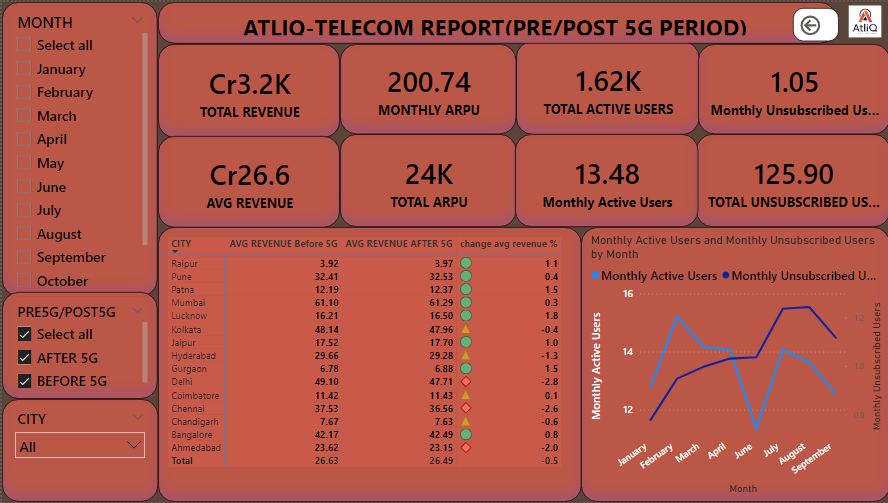

The page's visual inventory and layout, read from the dashboard file:
{"tool":"powerbi","page":{"name":"Overview","canvas":[1280,720],"ordinal":0},"visuals":[{"type":"slicer","fields":{"Values":["fact_atliqo_metrics.date.Variation.Date Hierarchy.Month"]},"box":[0,0,224.1,424.4],"z":0},{"type":"slicer","title":"PRE 5G/POST 5G","fields":{"Values":["fact_atliqo_metrics.Before 5G/After 5G"]},"box":[0,418,224.1,154.2],"z":1000},{"type":"image","box":[1204.8,0,74.7,55.6],"z":2000},{"type":"card","fields":{"Values":["Sum(fact_atliqo_metrics.atliqo_revenue_crores)"]},"box":[224.1,60.4,262.3,135.1],"z":3000},{"type":"card","fields":{"Values":["Avg(fact_atliqo_metrics.atliqo_revenue_crores)"]},"box":[224.1,192.3,262.3,131.9],"z":4000},{"type":"card","fields":{"Values":["Sum(fact_atliqo_metrics.arpu)"]},"box":[486.4,190.7,254.3,133.5],"z":5000},{"type":"card","fields":{"Values":["Sum(fact_atliqo_metrics.active_users_lakhs)"]},"box":[740.7,55.6,263.8,135.1],"z":6000},{"type":"card","fields":{"Values":["Sum(fact_atliqo_metrics.unsubscribed_users_lakhs)"]},"box":[999.7,190.7,279.7,133.5],"z":7000},{"type":"card","fields":{"Values":["dim_cities.Monthly Active Users"]},"box":[739.1,190.7,263.8,133.5],"z":8000},{"type":"pivotTable","title":"CHANGE IN REVENUE BY CITY","fields":{"Rows":["dim_cities.CITY"],"Values":["dim_cities.AVG REVENUE Before 5G","dim_cities.AVG REVENUE AFTER 5G","dim_cities.change avg revenue %"]},"box":[224.1,324.2,610.3,395.8],"z":9000},{"type":"lineChart","fields":{"Category":["fact_atliqo_metrics.date.Variation.Date Hierarchy.Month"],"Y":["dim_cities.Monthly Active Users"],"Y2":["dim_cities.Monthly Unsubscribed Users"]},"box":[834.4,324.2,445,395.8],"z":10000},{"type":"slicer","fields":{"Values":["dim_cities.CITY"]},"box":[0,572.2,224.1,147.8],"z":11000},{"type":"textbox","box":[224.1,0,977.5,60.4],"z":12000},{"type":"card","fields":{"Values":["dim_cities.Monthly Unsubscribed Users"]},"box":[1002.9,60.4,276.6,130.3],"z":13000},{"type":"card","fields":{"Values":["dim_cities.MONTHLY ARPU"]},"box":[486.4,60.4,254.3,130.3],"z":14000}]}

Visuals, with their boxes in screenshot pixels (x1, y1, x2, y2), scaled from the page's 1280x720 canvas onto the 888x503 screenshot:
slicer - fact_atliqo_metrics.date.Variation.Date Hierarchy.Month: left=0, top=0, right=155, bottom=296
"PRE 5G/POST 5G" slicer: left=0, top=292, right=155, bottom=400
image: left=836, top=0, right=887, bottom=39
card - Sum(fact_atliqo_metrics.atliqo_revenue_crores): left=155, top=42, right=337, bottom=137
card - Avg(fact_atliqo_metrics.atliqo_revenue_crores): left=155, top=134, right=337, bottom=226
card - Sum(fact_atliqo_metrics.arpu): left=337, top=133, right=514, bottom=226
card - Sum(fact_atliqo_metrics.active_users_lakhs): left=514, top=39, right=697, bottom=133
card - Sum(fact_atliqo_metrics.unsubscribed_users_lakhs): left=694, top=133, right=887, bottom=226
card - dim_cities.Monthly Active Users: left=513, top=133, right=696, bottom=226
"CHANGE IN REVENUE BY CITY" pivotTable: left=155, top=226, right=579, bottom=502
lineChart - fact_atliqo_metrics.date.Variation.Date Hierarchy.Month x dim_cities.Monthly Active Users: left=579, top=226, right=887, bottom=502
slicer - dim_cities.CITY: left=0, top=400, right=155, bottom=502
textbox: left=155, top=0, right=834, bottom=42
card - dim_cities.Monthly Unsubscribed Users: left=696, top=42, right=887, bottom=133
card - dim_cities.MONTHLY ARPU: left=337, top=42, right=514, bottom=133
